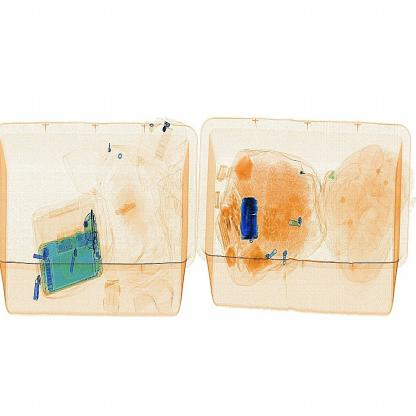scissors: (236, 185, 264, 242)
